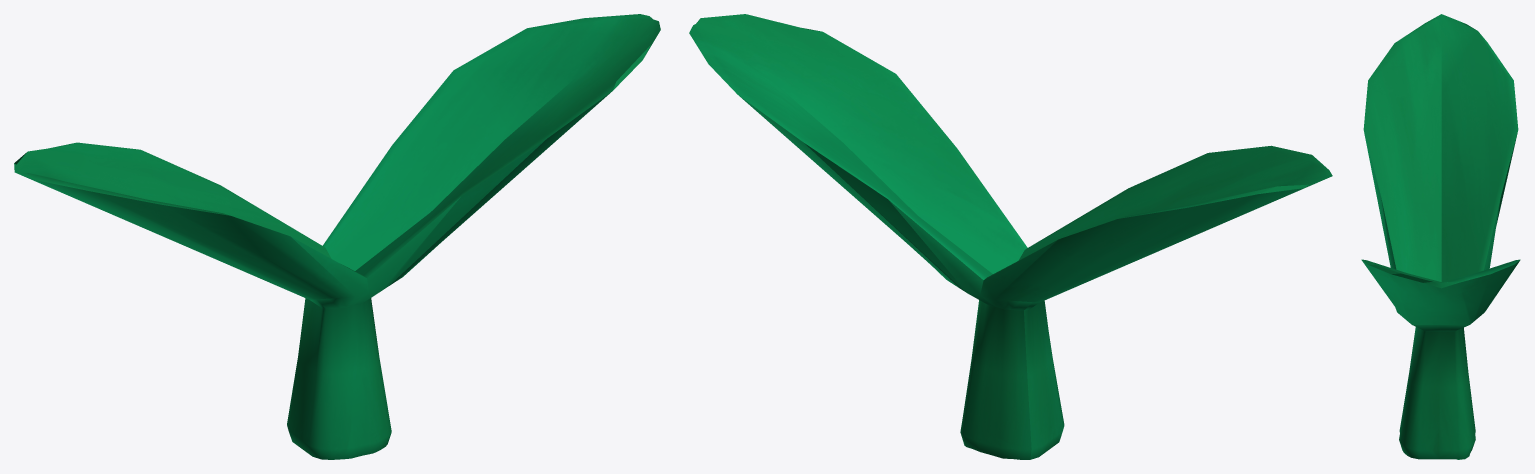
File: SM_PlantStageOne_Low.fbx
The picture shows the model from 3 angles, left to right: view 1: azimuth 30°, elevation 25°; view 2: azimuth 150°, elevation 25°; view 3: azimuth 270°, elevation 25°; orthographic projection. The views are drawn at different scales.
Parts seen in each view (by area): view 1: SM_PlantStageOne_Low; view 2: SM_PlantStageOne_Low; view 3: SM_PlantStageOne_Low.
Part boxes in pixels (<box>): SM_PlantStageOne_Low: <box>14,14,660,459</box>; SM_PlantStageOne_Low: <box>689,14,1332,459</box>; SM_PlantStageOne_Low: <box>1361,14,1520,459</box>.
Size of the model in its own units: 1.91 by 1 by 0.4825.
